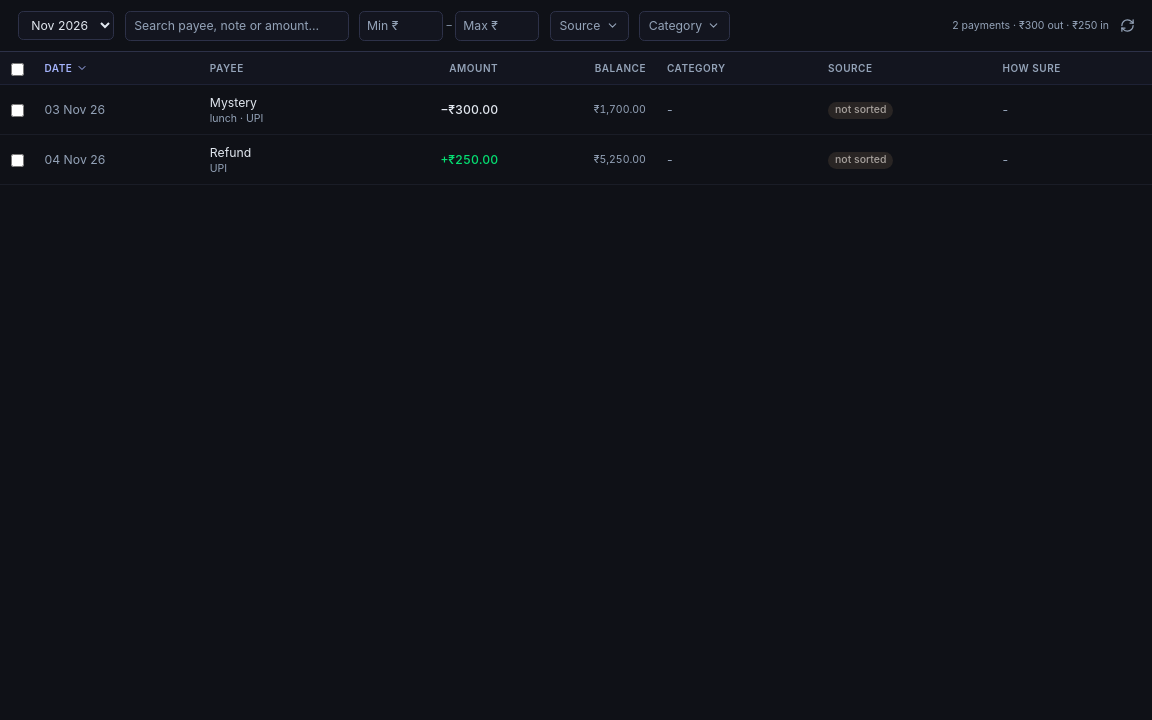
Scenario: Transactions › updates only the one row after a single payment is renamed
Click the text "Mystery" at point(233, 102), box [210,95,257,110]
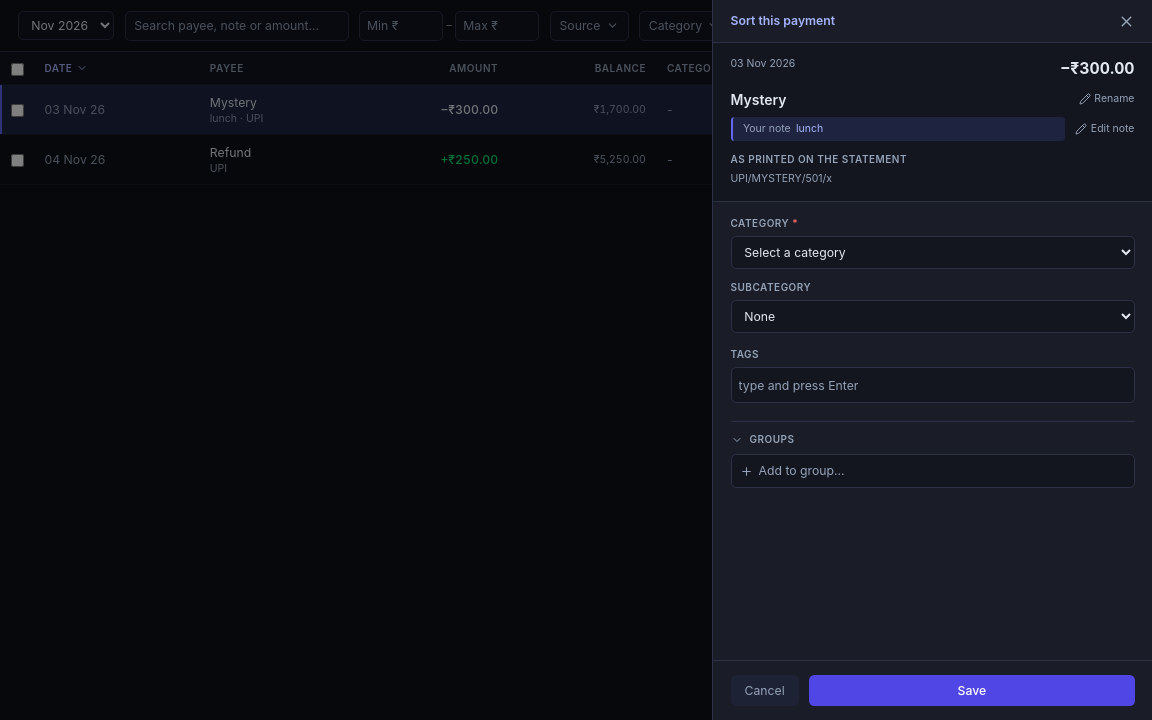
Expected: the text "As printed on the statement" is shown, [730,152,907,164]
Click the button "Rename" at point(1107, 99), box [1079,92,1134,106]
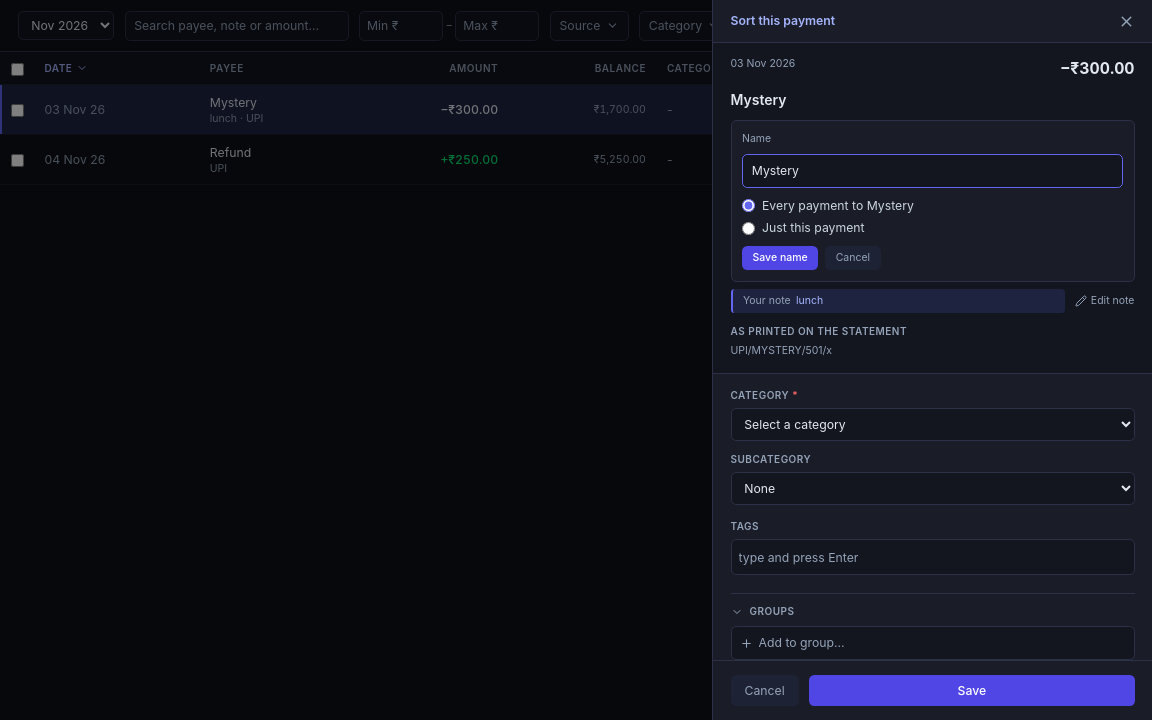
Click the radio button labelled "Just this payment" at point(748, 228), box [742,222,755,234]
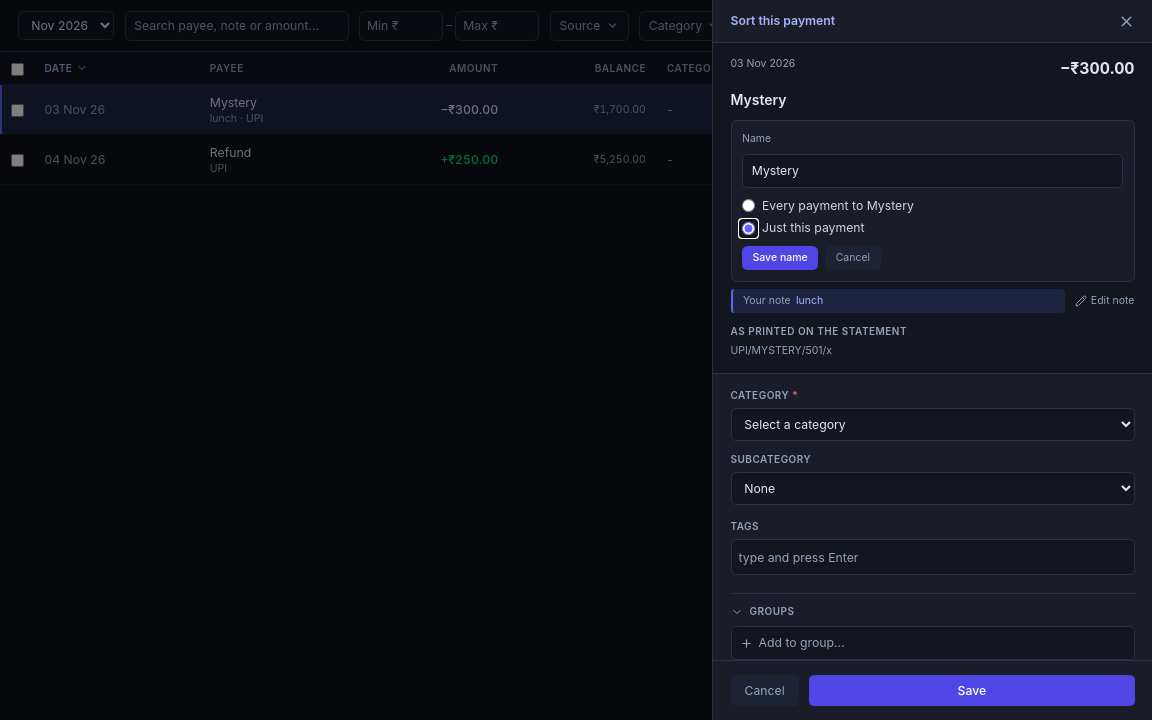
Replace the text in the field labelled "Name" with "Deposit" at point(932, 171), box [742,154,1123,188]
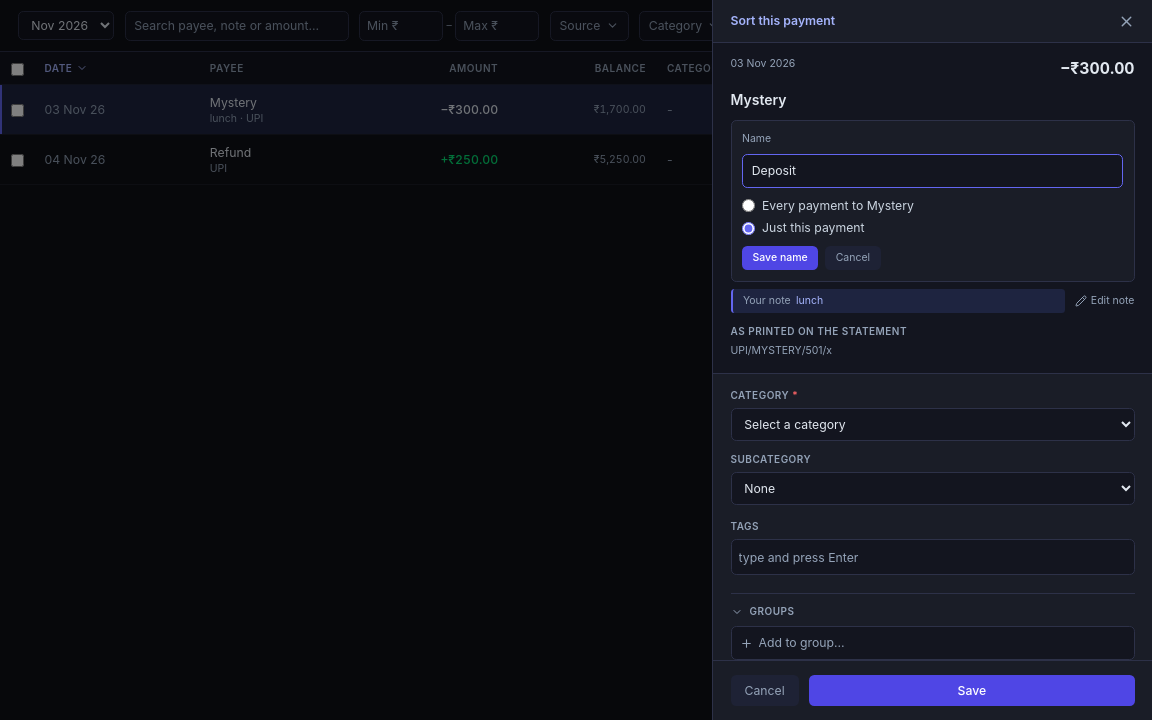
Click the button "Save name" at point(780, 258), box [742,246,818,270]
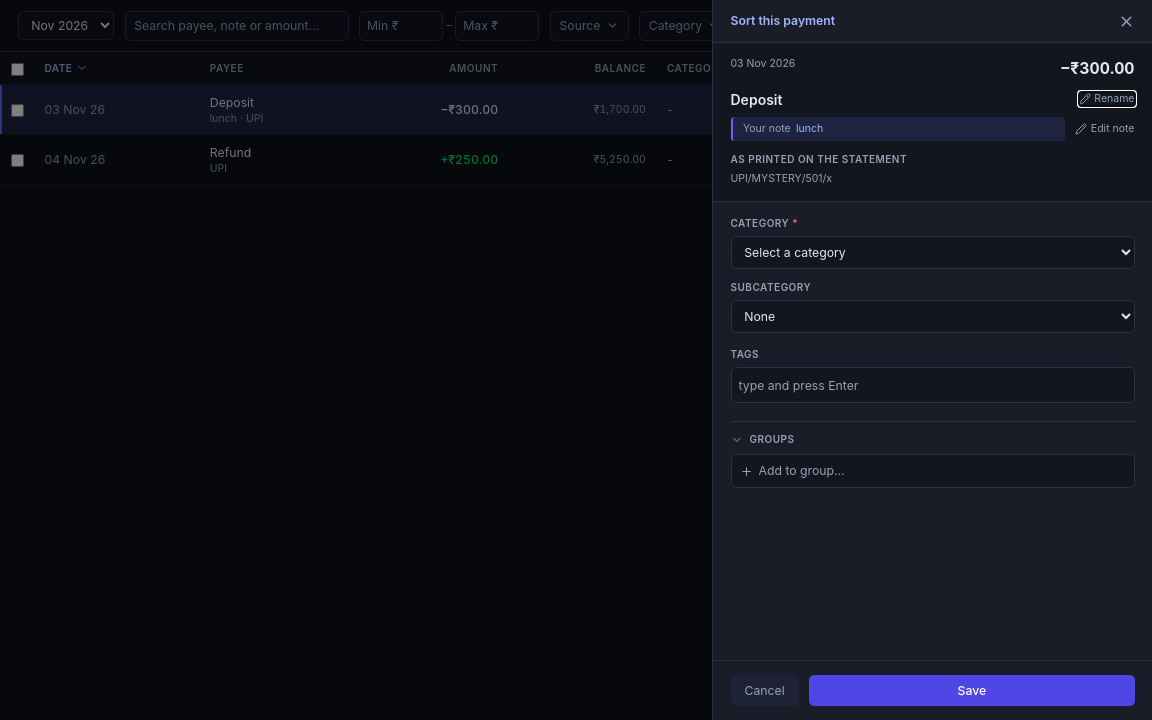
Expected: the text "Deposit" is shown, [210,95,254,110]
